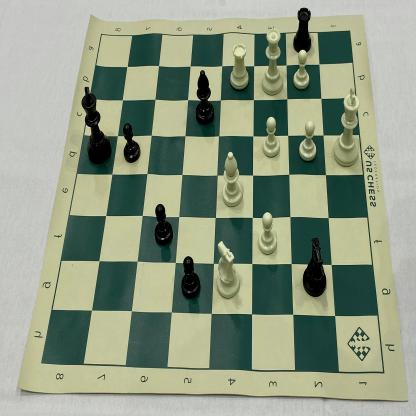black-bishop: (194, 66, 216, 128)
black-king: (77, 81, 112, 168)
black-knight: (300, 235, 330, 303)
black-pawn: (178, 252, 204, 301), (296, 117, 319, 165), (152, 198, 174, 248), (120, 121, 142, 166)
black-rook: (291, 4, 316, 56)
white-bishop: (220, 148, 245, 212)
white-king: (331, 85, 363, 170)
white-knight: (214, 235, 242, 303), (292, 47, 312, 94)
white-pawn: (256, 208, 280, 259), (259, 113, 281, 162)
white-queen: (258, 23, 286, 98)
white-rook: (227, 39, 251, 95)
